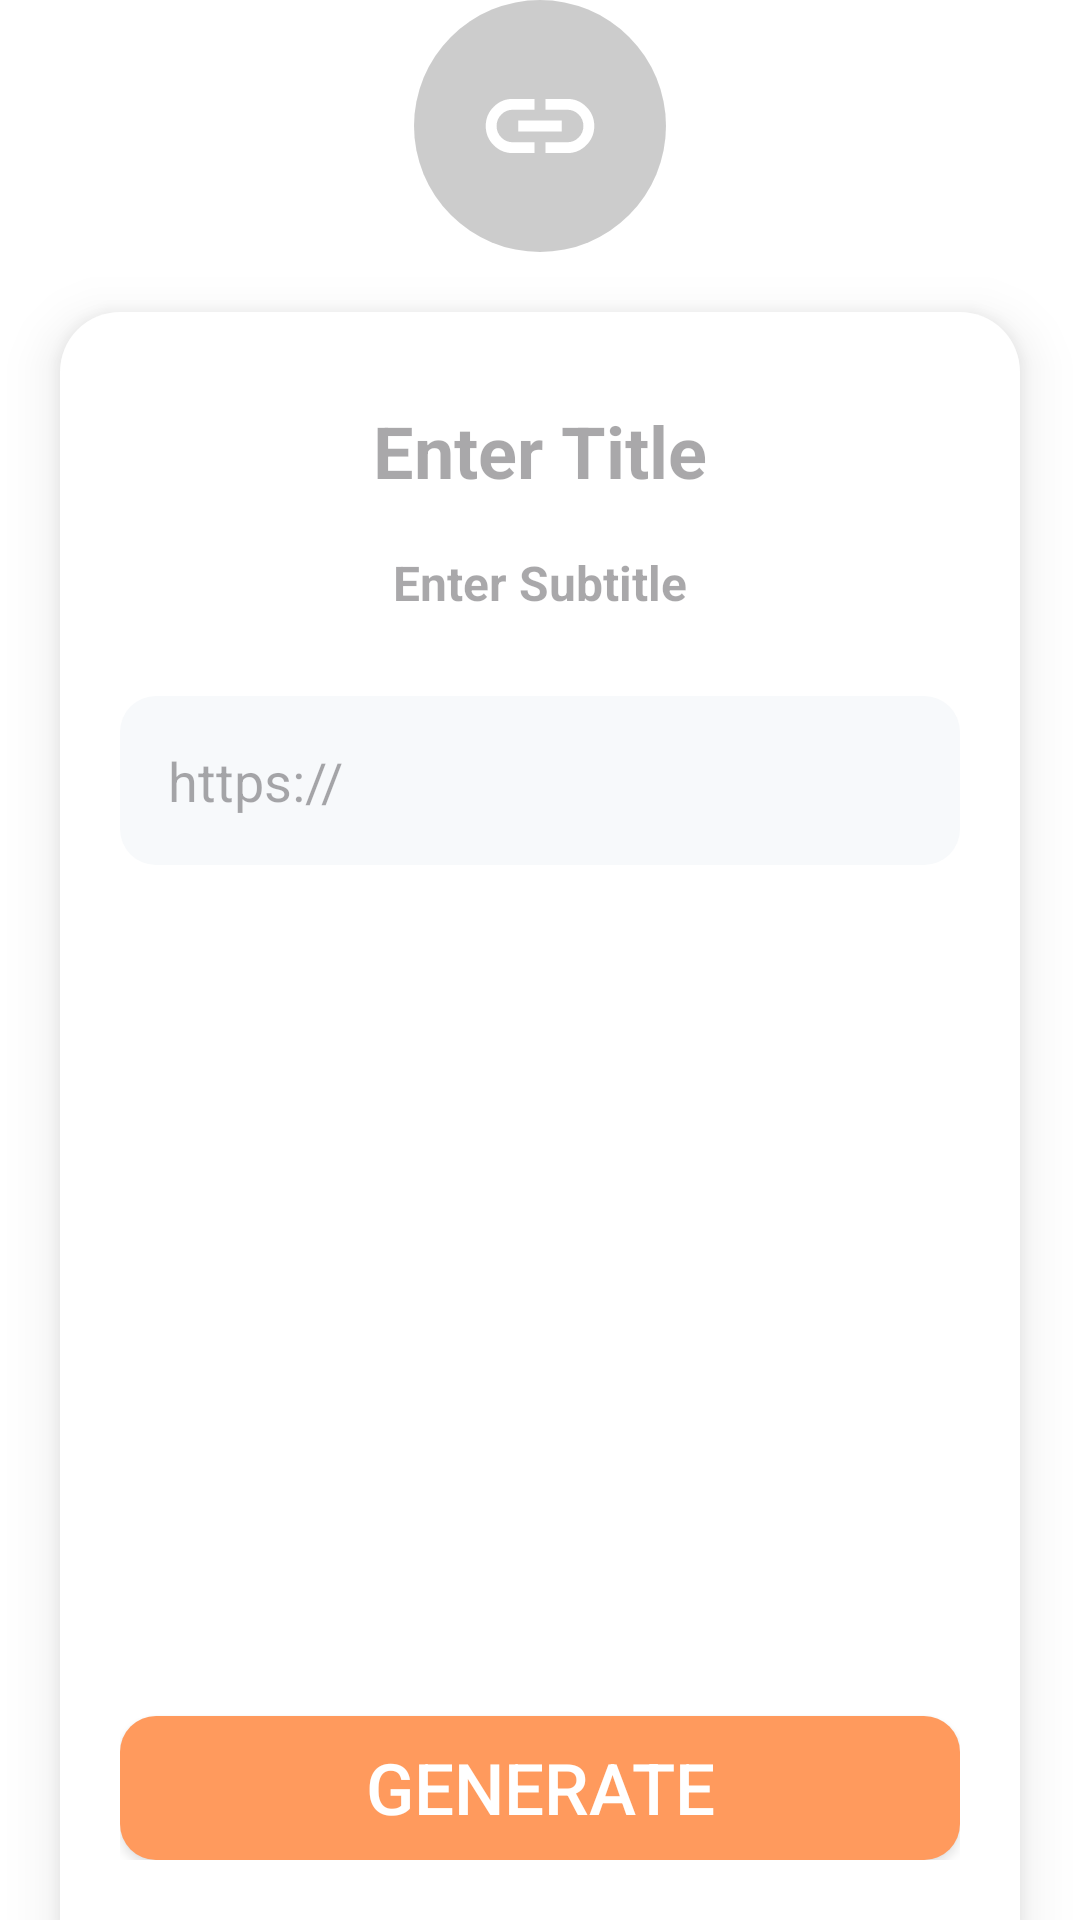

Icons on this 1080*1920 Android screen, each with the point to tap as (x,y):
link: (540,126)
